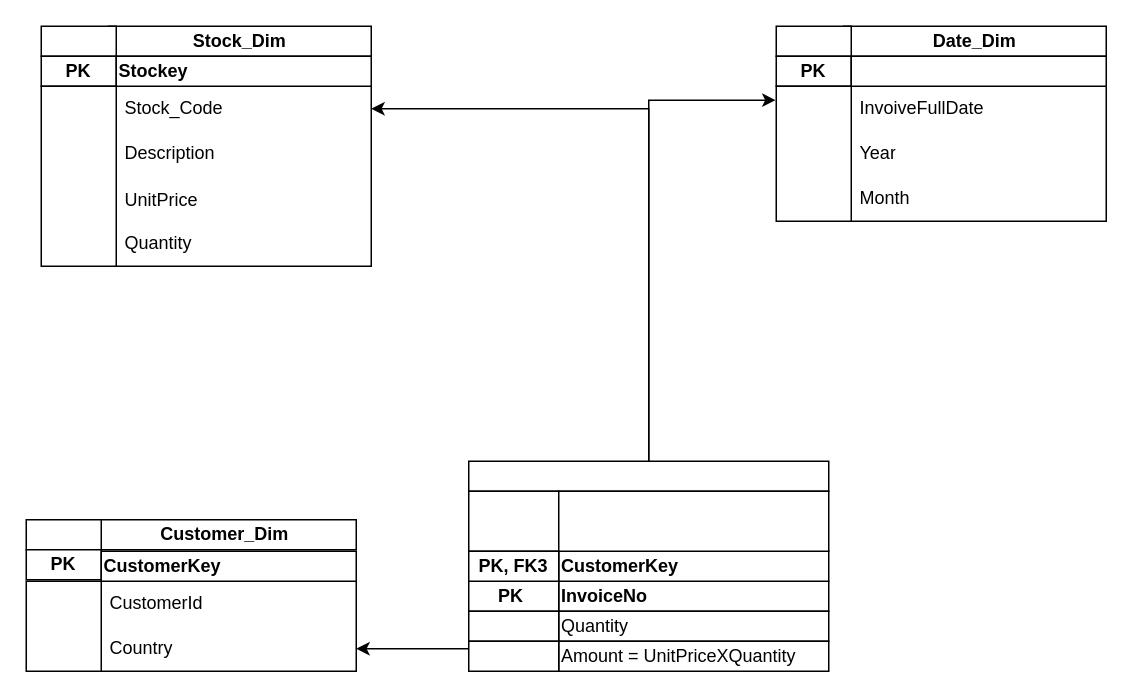
Image size: 1133x698. Some labels were removed from this diagram. Here are the shapes that lost their labels. From the top down, the box of each, then its label:
(850, 55, 1106, 221): DateKey
(467, 460, 829, 491): Table (SalesFact)
(467, 490, 559, 551): PK, FK1 PK, FK2
(557, 490, 829, 551): StocKey DateKey
